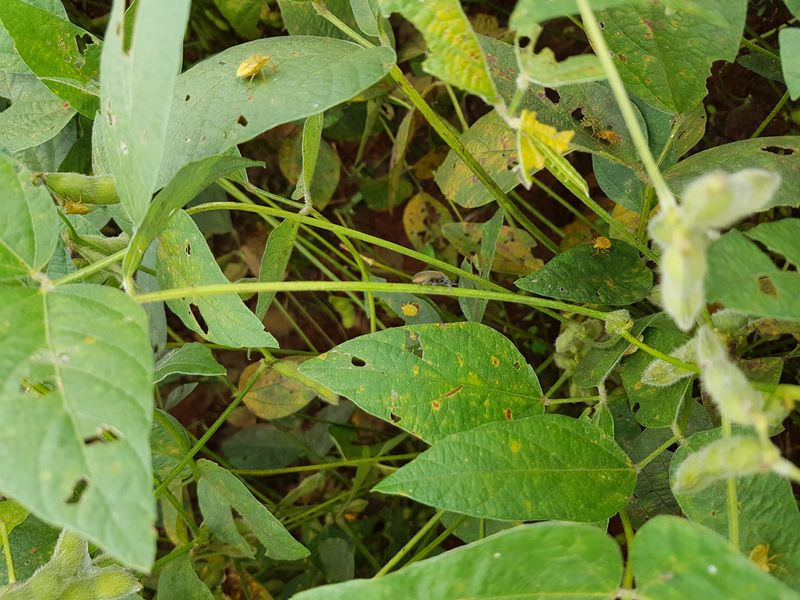Euschistus_heros_ninfa: (740, 538, 795, 588), (231, 46, 280, 90), (57, 186, 95, 221), (592, 121, 628, 152), (586, 232, 614, 258), (394, 297, 422, 322)
